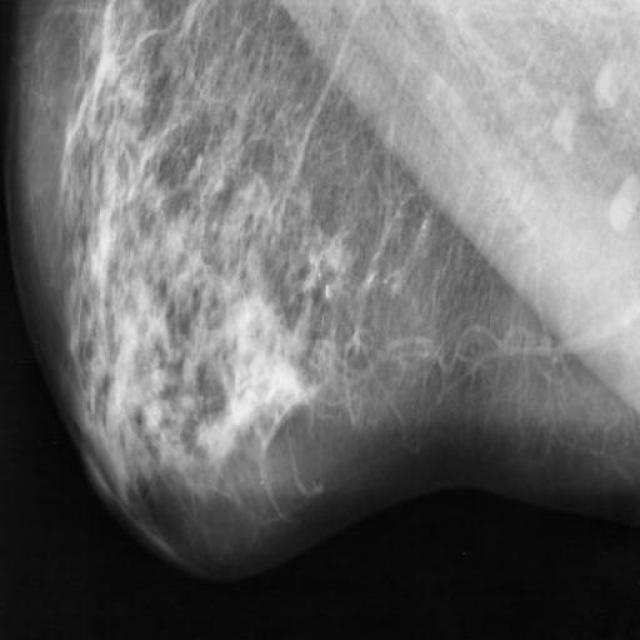cancer: (308, 325, 364, 399)
